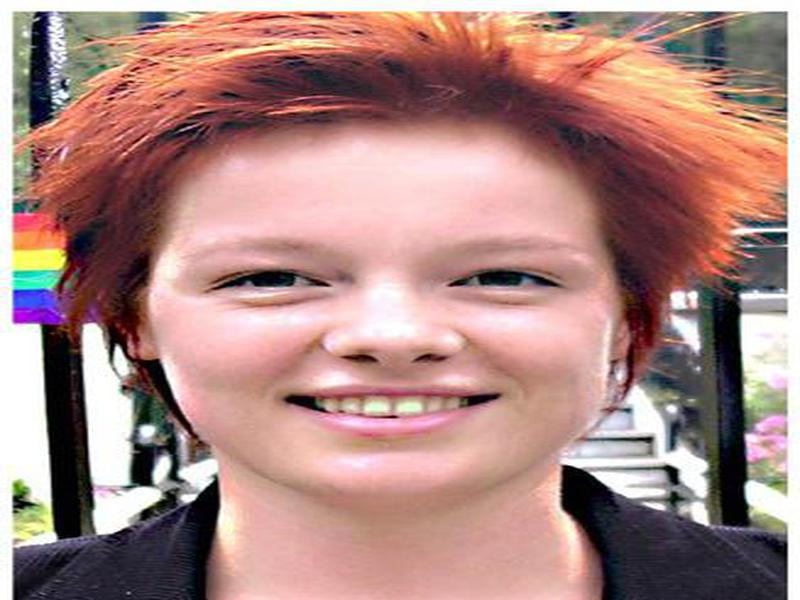without_mask: (148, 168, 612, 514)
